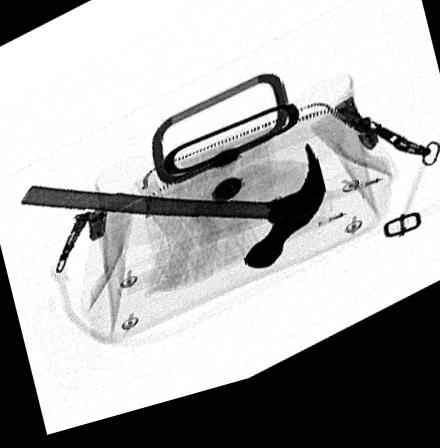Hammer: (17, 157, 324, 283)
